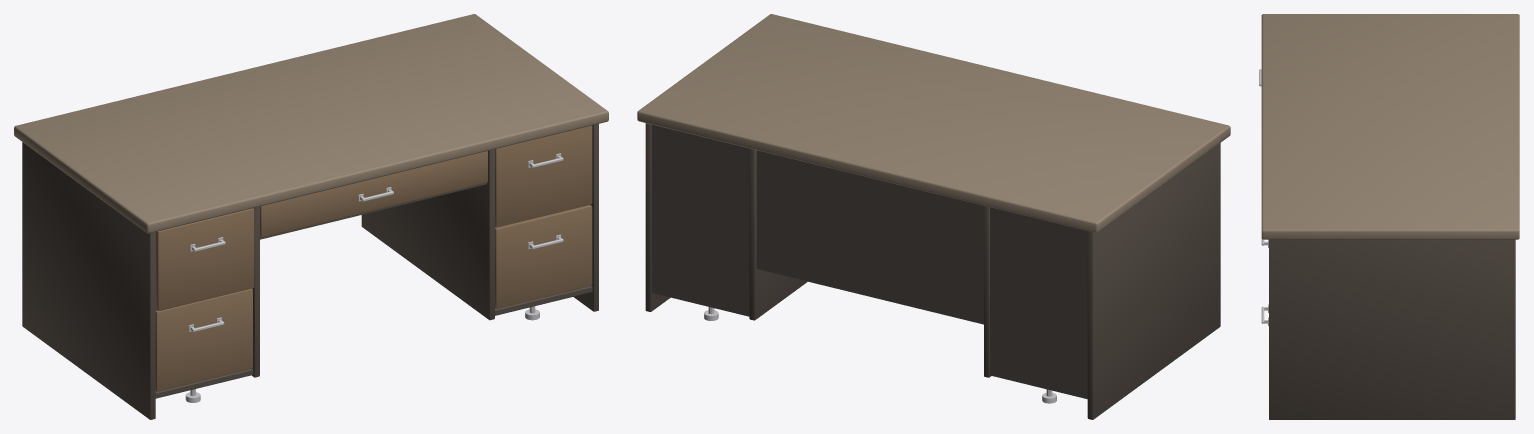
The model's file is SM_OfficeDesk_B.fbx.
3 renders of one model, left to right at view 1: azimuth 30°, elevation 25°; view 2: azimuth 150°, elevation 25°; view 3: azimuth 270°, elevation 25°, orthographic. The views are drawn at different scales.
Visible parts, largest first — view 1: SM_OfficeDesk_B; view 2: SM_OfficeDesk_B; view 3: SM_OfficeDesk_B.
Boxes of the visible parts, left/top/right/bottom form: SM_OfficeDesk_B: left=14, top=14, right=608, bottom=419; SM_OfficeDesk_B: left=637, top=14, right=1230, bottom=419; SM_OfficeDesk_B: left=1259, top=14, right=1519, bottom=419.
Bounding box in the file's own units: 200 × 83.6 × 101.
